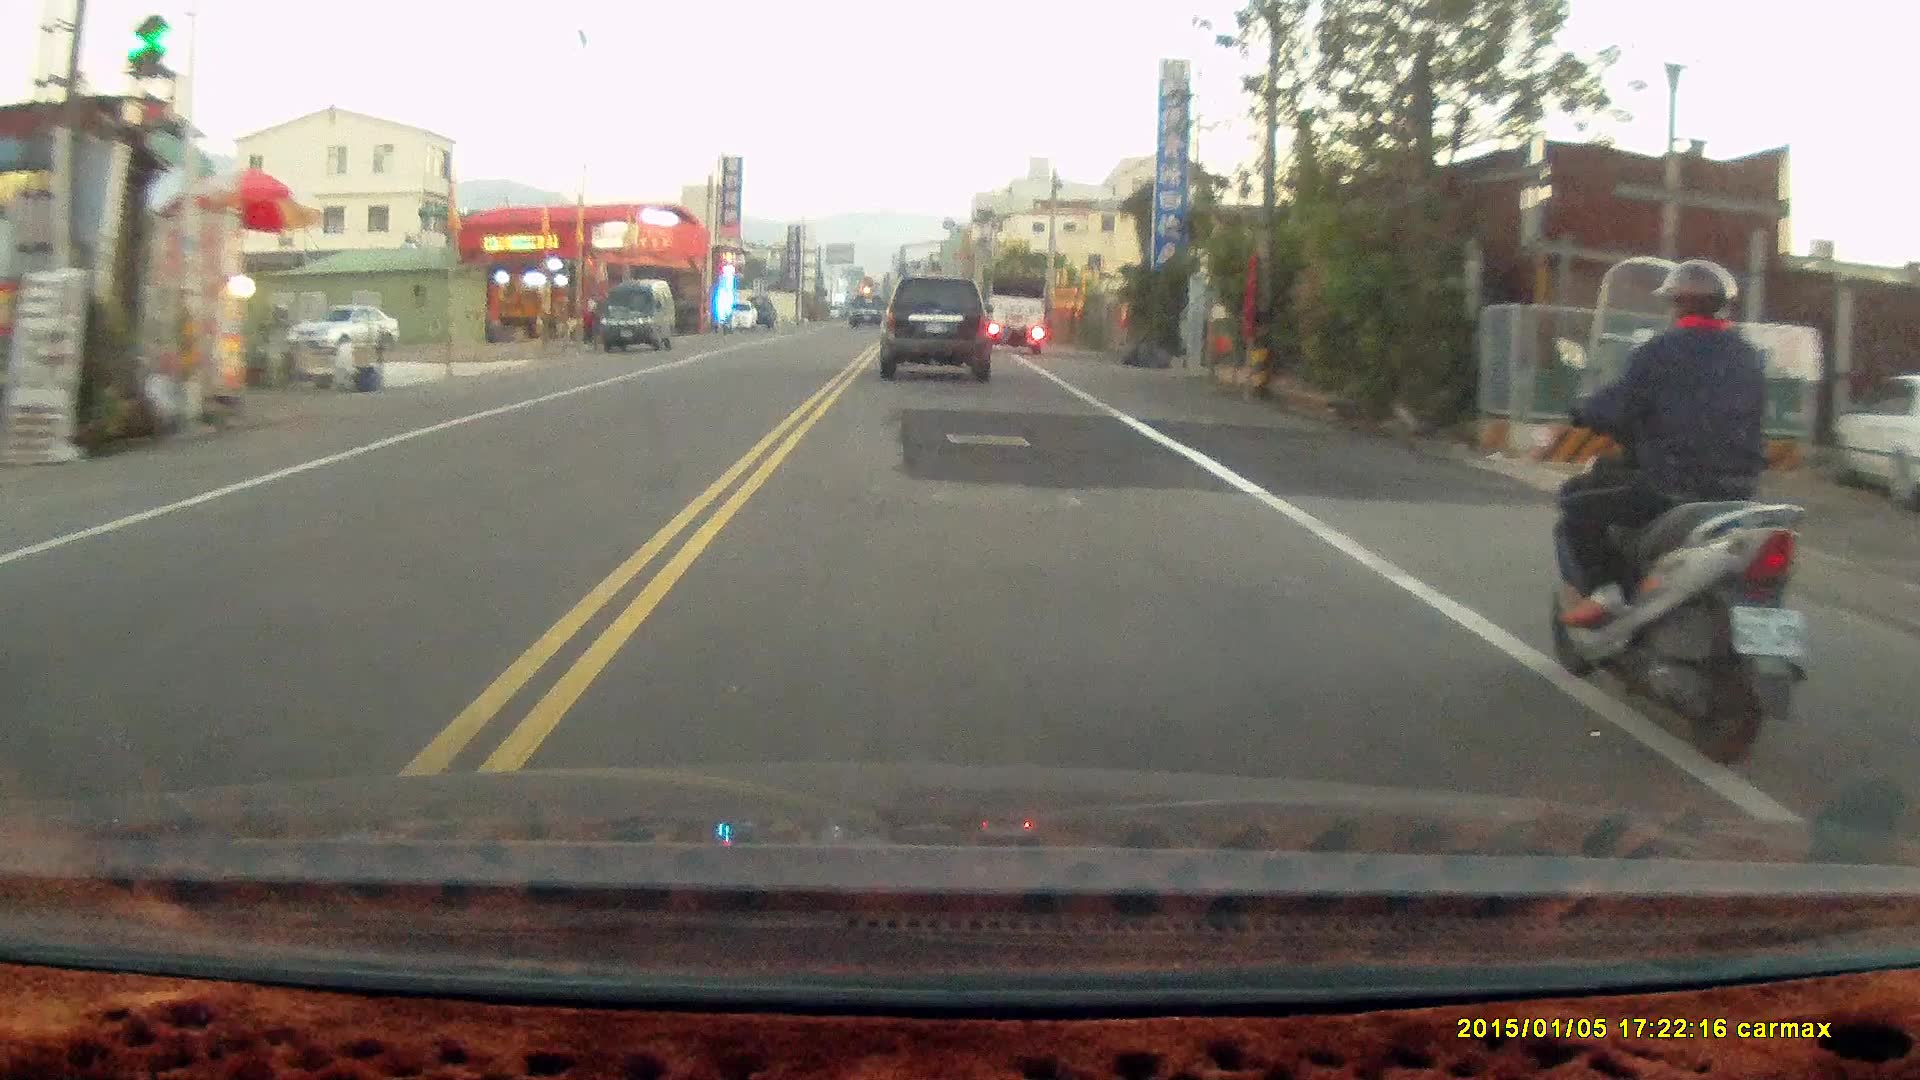rider: (1546, 257, 1806, 763)
vehicle: (880, 278, 997, 385), (599, 278, 678, 354), (291, 305, 401, 354), (986, 274, 1049, 353)
